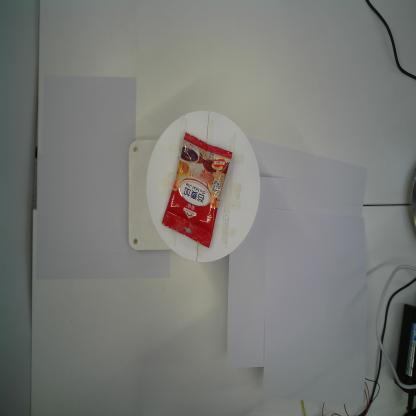Instant Drink: (161, 130, 234, 251)
